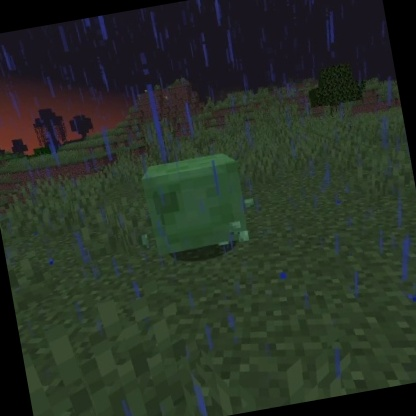slime: (132, 146, 258, 264)
